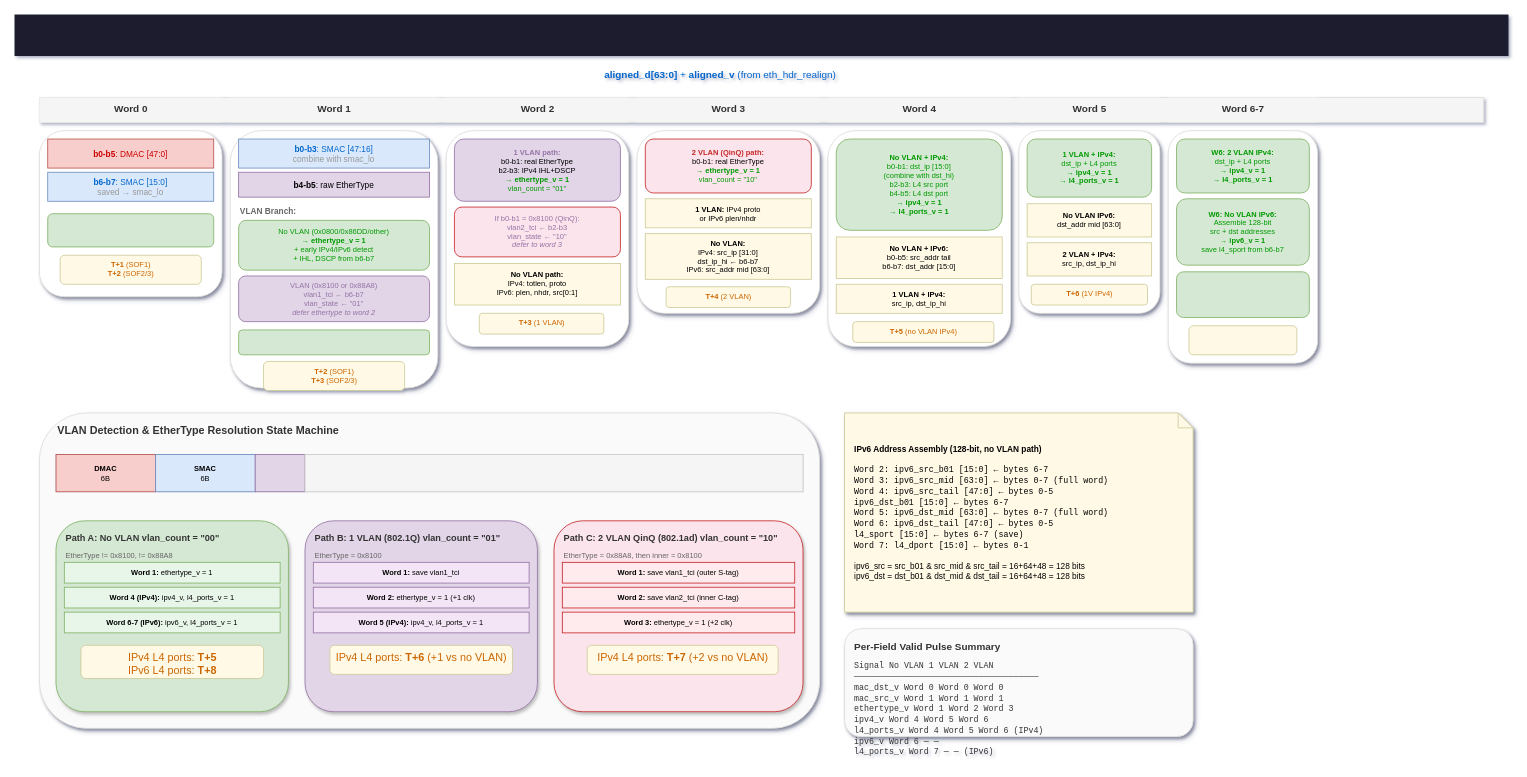
Image size: 1527x777. Some labels were removed from this diagram. Here are the shapes that lost their labels. From the top down, the centre of each, then its label:
At point 761,35: "eth_hdr_extract — Per-Word Header Field Extraction Pipeline".
At point 130,230: "→ mac_dst_v = 1 mac_dst[47:0] valid".
At point 1242,294: "W7: No VLAN IPv6: b0-b1: L4 dst port → l4_ports_v = 1".
At point 334,342: "→ mac_src_v = 1".
At point 1242,340: "T+7 (2V IPv4) T+8 (IPv6)".
At point 279,473: "EType 2B".
At point 553,473: "... payload ...".
